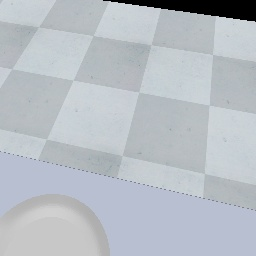Plate: (0, 189, 110, 256)
